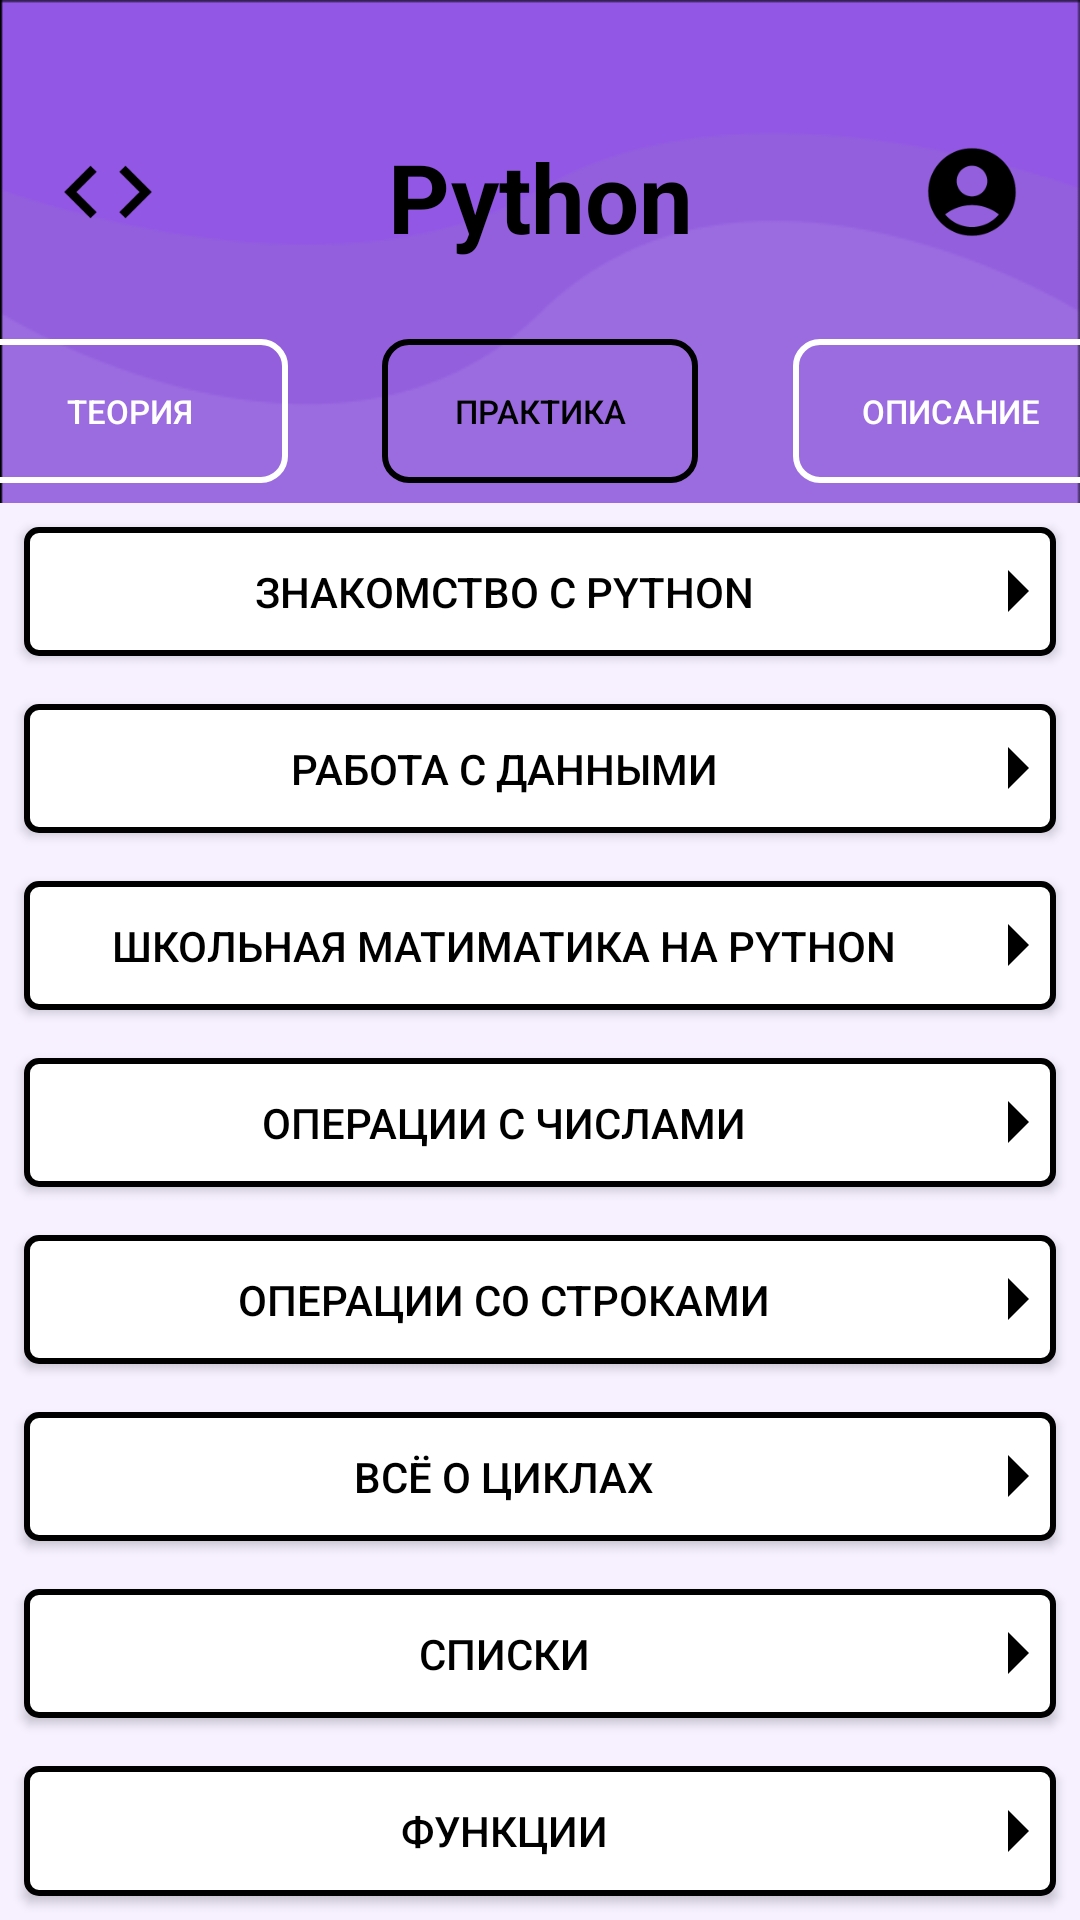

Where icons sit on this 1080x1920 app screen, as rect(x1, y1, x2, y2):
code: rect(64, 166, 152, 219)
profile: rect(928, 148, 1016, 236)
